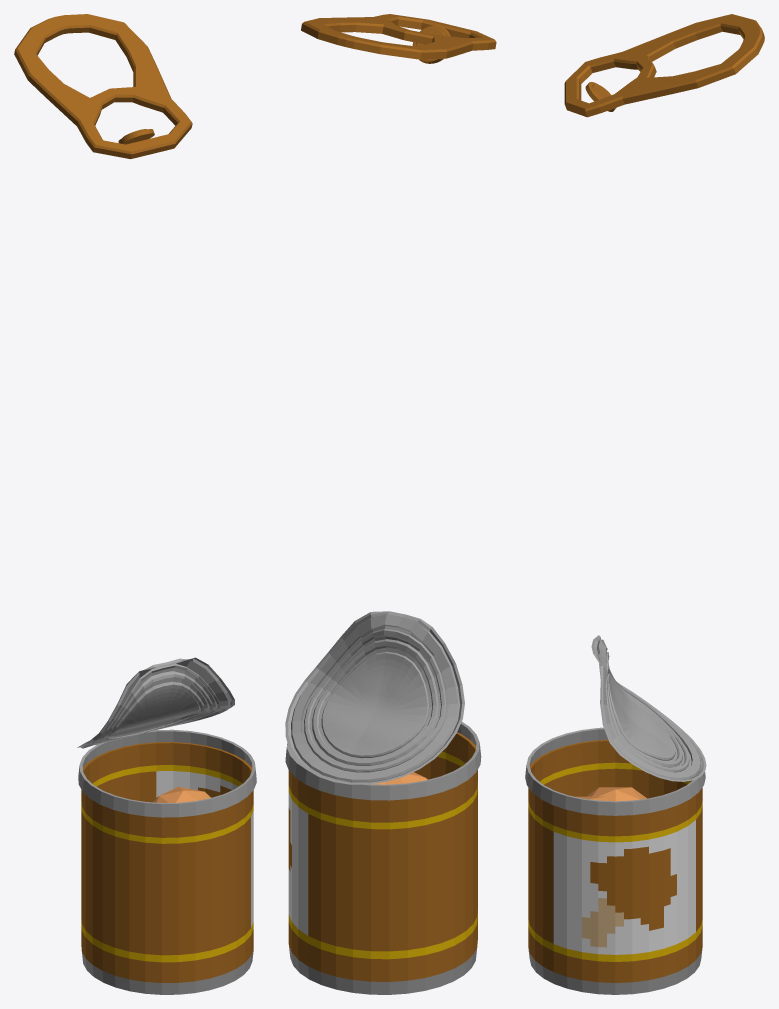
Rendered from soup_mushroom(open).fbx.
The picture shows the model from 3 angles, left to right: view 1: azimuth 30°, elevation 25°; view 2: azimuth 150°, elevation 25°; view 3: azimuth 270°, elevation 25°; orthographic projection. The views are drawn at different scales.
Parts seen in each view (by area): view 1: Cylinder, Cylinder.001, Cylinder.002, Icosphere.001; view 2: Cylinder, Cylinder.002, Cylinder.001; view 3: Cylinder, Cylinder.001, Cylinder.002, Icosphere.
Boxes of the visible parts, bbox=[...] form: Cylinder: bbox=[78, 729, 256, 994]; Cylinder.001: bbox=[14, 14, 192, 159]; Cylinder.002: bbox=[77, 657, 234, 748]; Icosphere.001: bbox=[152, 787, 211, 802]; Cylinder: bbox=[285, 722, 481, 994]; Cylinder.002: bbox=[285, 611, 464, 784]; Cylinder.001: bbox=[301, 14, 496, 59]; Cylinder: bbox=[525, 727, 705, 994]; Cylinder.001: bbox=[564, 14, 764, 117]; Cylinder.002: bbox=[591, 635, 706, 781]; Icosphere: bbox=[587, 787, 646, 801].
Size of the model in its own units: 22.75 by 111 by 26.58.
